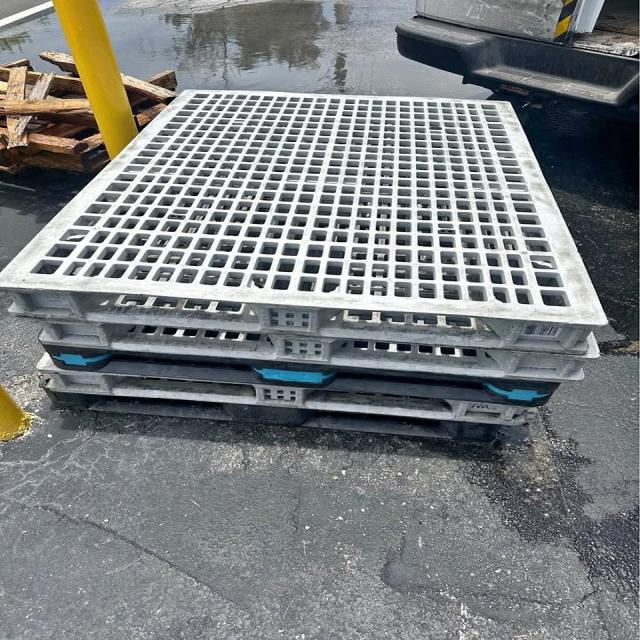non-igps: (0, 84, 616, 362), (34, 307, 610, 391), (33, 330, 568, 413), (22, 348, 546, 431), (32, 375, 516, 455)
